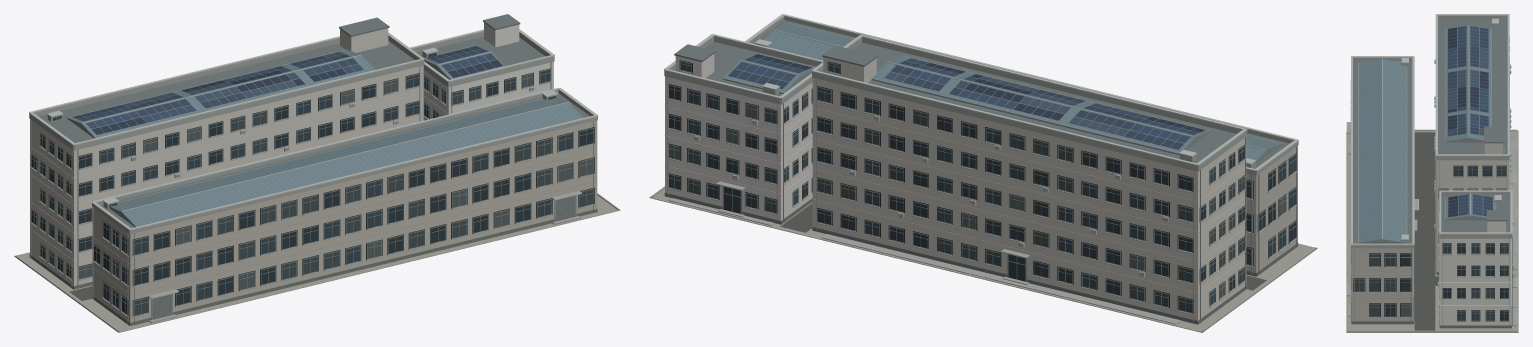
File: yongchuang-rear-factories-video-v1.glb
3 renders of one model, left to right at view 1: azimuth 30°, elevation 25°; view 2: azimuth 150°, elevation 25°; view 3: azimuth 270°, elevation 25°, orthographic. The views are drawn at different scales.
Visible parts, largest first — view 1: 永创智能后排厂房; view 2: 永创智能后排厂房; view 3: 永创智能后排厂房.
Boxes of the visible parts, bbox=[...] form: 永创智能后排厂房: bbox=[14, 14, 620, 332]; 永创智能后排厂房: bbox=[649, 14, 1317, 332]; 永创智能后排厂房: bbox=[1346, 14, 1518, 332].
Size of the model in its own units: 61.4 by 18.6 by 22.14.
